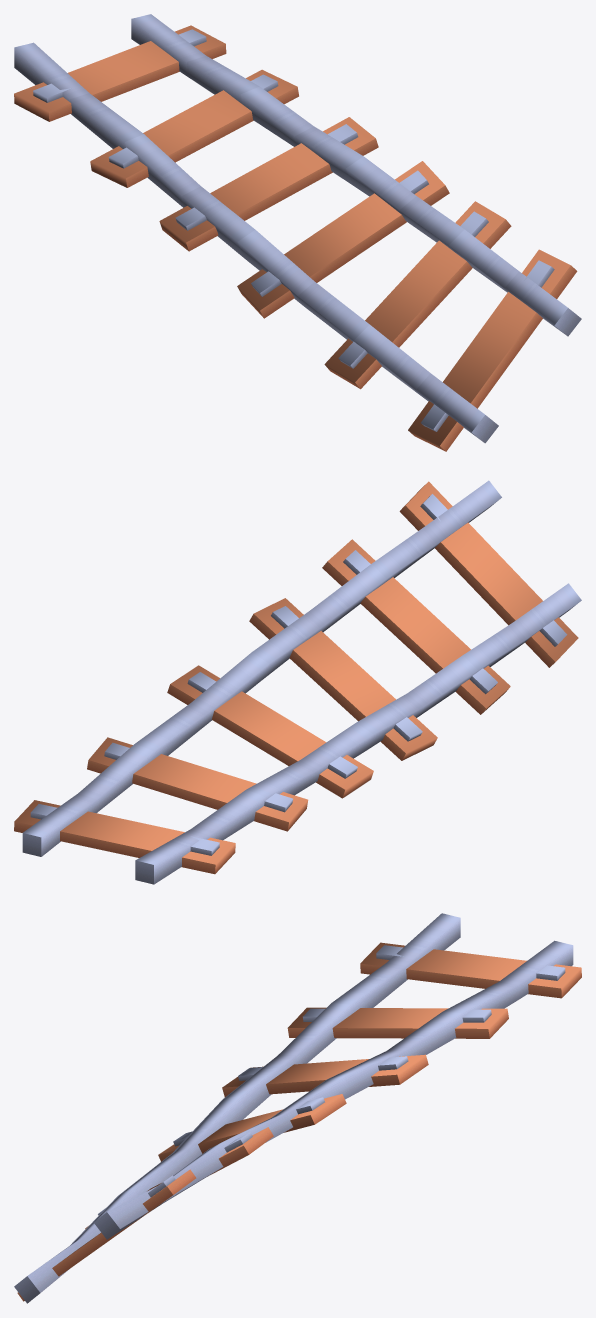
The model's file is kenney-train-railroad-damaged-straight-skew-right.glb.
3 views of the same model, one above another, from view 1: azimuth 30°, elevation 25°; view 2: azimuth 150°, elevation 25°; view 3: azimuth 330°, elevation 25° (orthographic). The views are drawn at different scales.
Parts seen in each view (by area): view 1: railroad-damaged-straight-skew-right; view 2: railroad-damaged-straight-skew-right; view 3: railroad-damaged-straight-skew-right.
Part boxes in pixels (bbox=[...]): railroad-damaged-straight-skew-right: bbox=[14, 14, 581, 451]; railroad-damaged-straight-skew-right: bbox=[14, 480, 581, 884]; railroad-damaged-straight-skew-right: bbox=[14, 913, 581, 1303].
Bounding box in the file's own units: 1.03 × 0.7246 × 4.
Materials: 1 (1 with a texture image).
